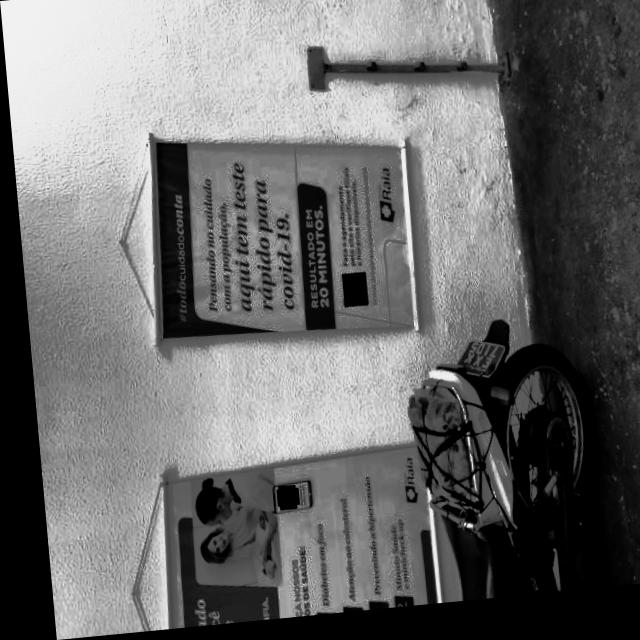qr_code: (336, 278, 361, 312), (268, 490, 288, 512)
